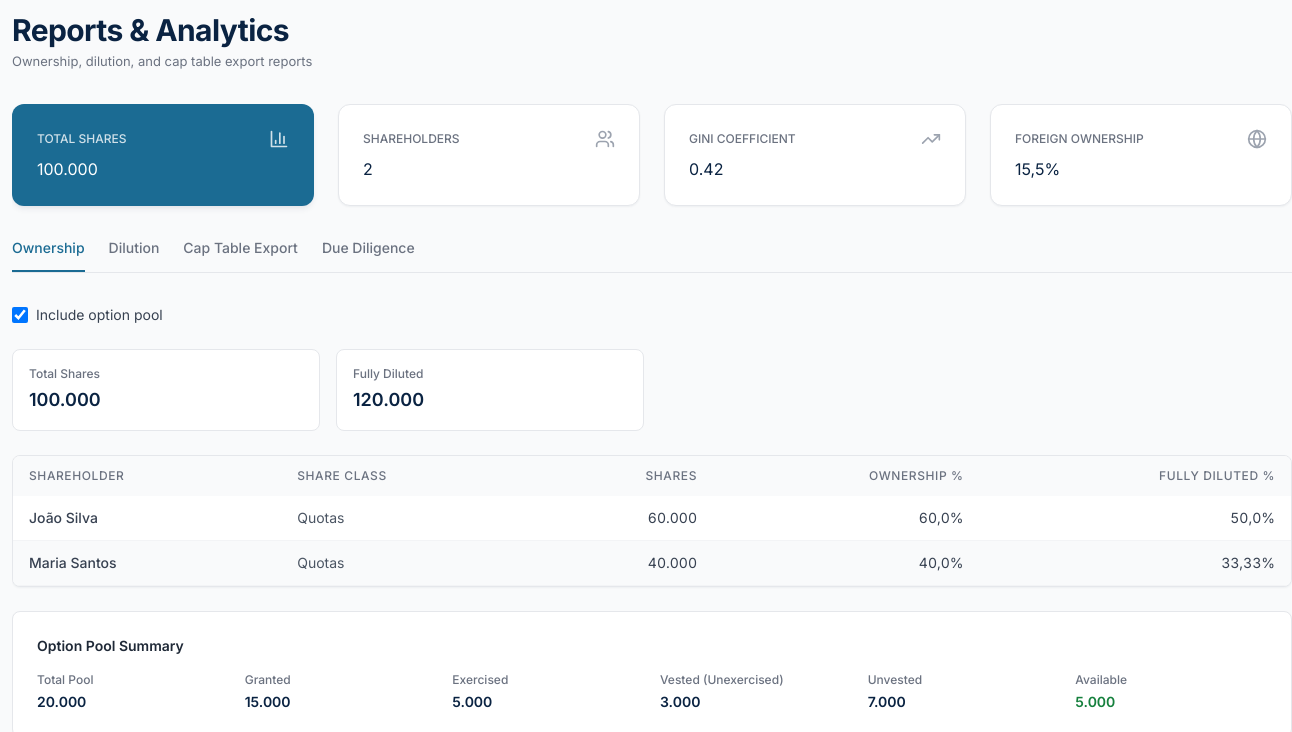
Test case: ReportsPage › Tab Navigation › switches to due diligence tab on click
The image size is (1292, 732).
Click the button "Due Diligence" at (368, 254), box [322,238,415,272]
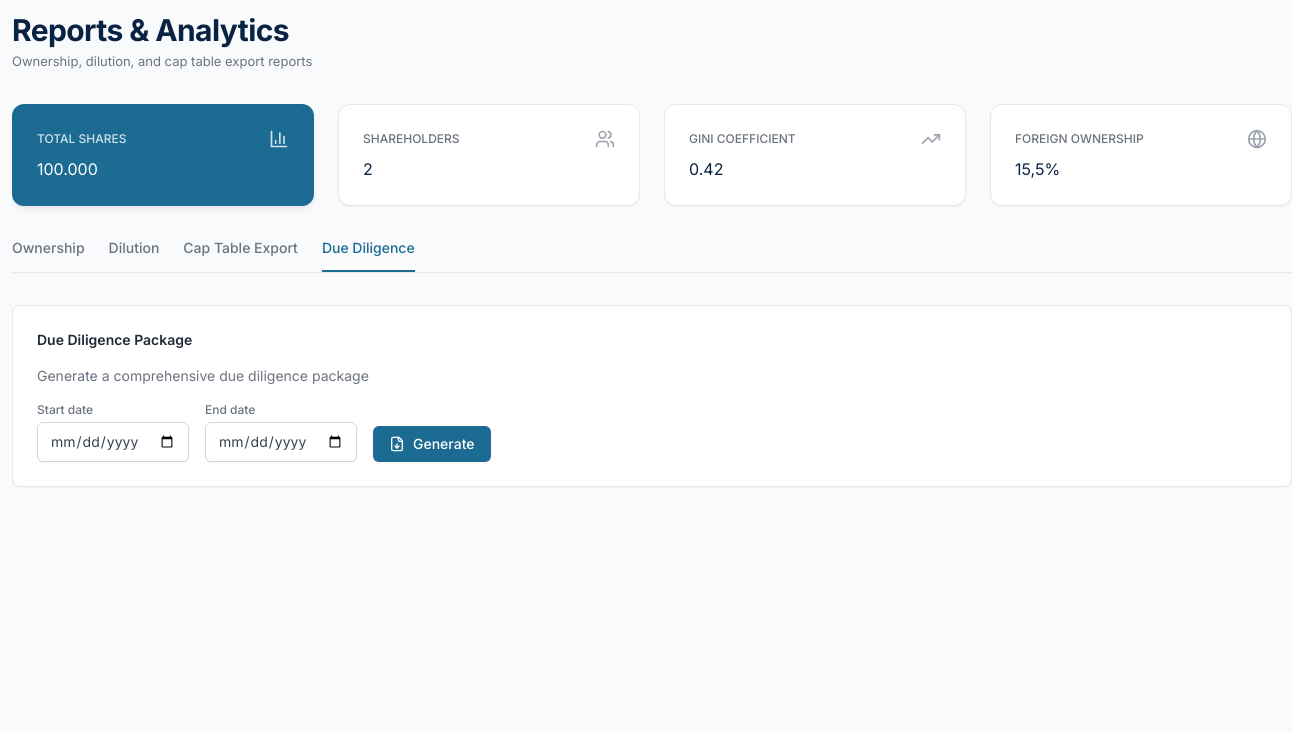
Expected: the text "Generate a comprehensive due diligence package" is shown, [37,366,369,384]
